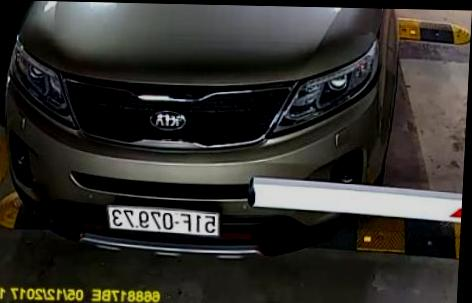License_Plate: (103, 200, 221, 242)
